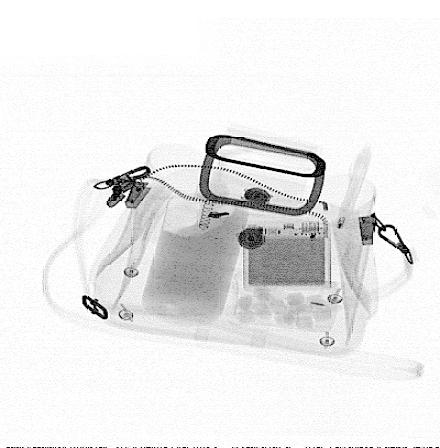Powerbank: (243, 222, 333, 291)
